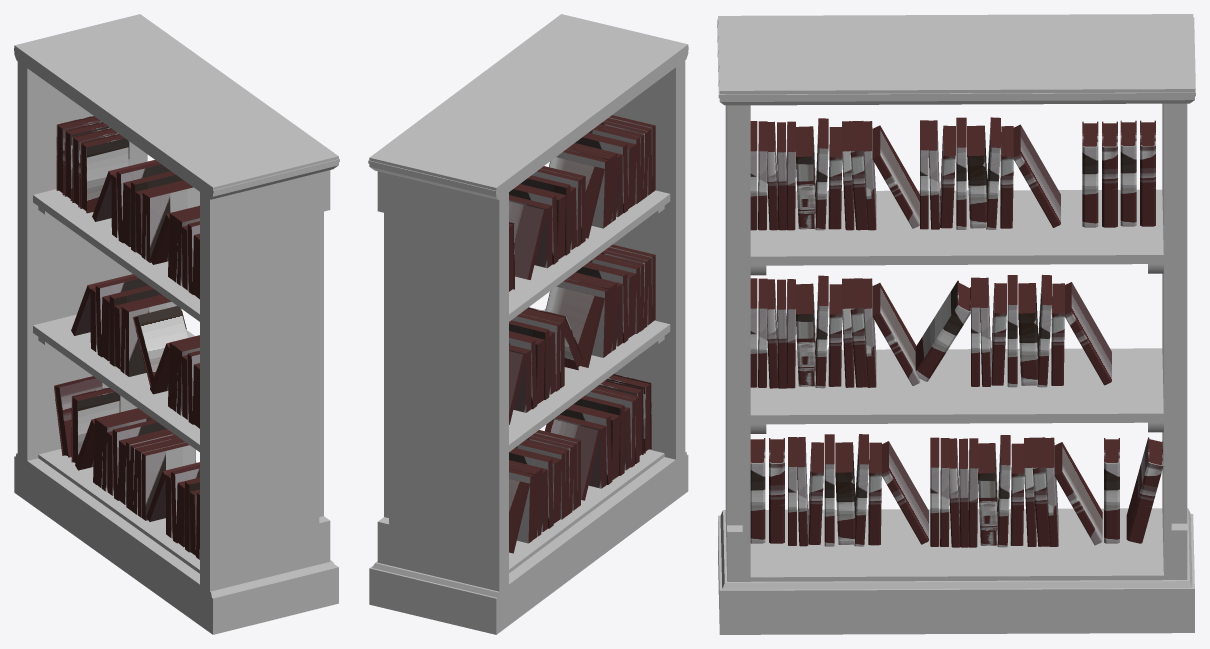
The model's file is Small Bookshelf.fbx.
3 renders of one model, left to right at view 1: azimuth 30°, elevation 25°; view 2: azimuth 150°, elevation 25°; view 3: azimuth 270°, elevation 25°, orthographic. The views are drawn at different scales.
Visible parts, largest first — view 1: Small Bookshelf, Stack Book-4.006, Stack Book-3.007, Stack Book-3.006, Stack Book-3.005, Stack Book-4.007, Stack Book-4.008, Stack Book-1.009, Stack Book-1.007, Stack Book-1.006, Stack Book-2.006, Stack Book-1.008 (+2 smaller); view 2: Small Bookshelf, Stack Book-4.007, Stack Book-4.008, Stack Book-4.006, Stack Book-3.007, Stack Book-3.005, Stack Book-3.006, Stack Book-1.005, Stack Book-1.007, Stack Book-2.005; view 3: Small Bookshelf, Stack Book-4.006, Stack Book-4.008, Stack Book-4.007, Stack Book-3.007, Stack Book-3.005, Stack Book-3.006, Stack Book-1.007, Stack Book-2.006, Stack Book-1.008, Stack Book-1.009, Stack Book-2.007 (+4 smaller).
Boxes of the visible parts, x1,y1,x2,y2 form: Small Bookshelf: (14,14,339,634); Stack Book-4.006: (75,408,195,520); Stack Book-3.007: (92,160,199,262); Stack Book-3.006: (71,274,176,376); Stack Book-3.005: (146,462,199,559); Stack Book-4.007: (150,335,199,428); Stack Book-4.008: (150,205,199,299); Stack Book-1.009: (80,133,129,213); Stack Book-1.007: (132,306,188,386); Stack Book-1.006: (71,387,120,462); Stack Book-2.006: (54,376,103,457); Stack Book-1.008: (64,121,109,200); Small Bookshelf: (368,14,688,634); Stack Book-4.007: (545,244,655,367); Stack Book-4.008: (549,115,655,238); Stack Book-4.006: (509,430,580,553); Stack Book-3.007: (509,166,585,279); Stack Book-3.005: (545,386,639,500); Stack Book-3.006: (509,311,564,424); Stack Book-1.005: (606,374,651,453); Stack Book-1.007: (524,307,583,370); Stack Book-2.005: (598,379,643,455); Small Bookshelf: (717,14,1195,634); Stack Book-4.006: (930,435,1102,547); Stack Book-4.008: (750,118,919,230); Stack Book-4.007: (750,275,920,388); Stack Book-3.007: (920,117,1060,229); Stack Book-3.005: (788,434,928,546); Stack Book-3.006: (971,274,1111,387); Stack Book-1.007: (915,280,970,381); Stack Book-2.006: (1126,437,1163,543); Stack Book-1.008: (1120,120,1136,226); Stack Book-1.009: (1082,121,1098,227); Stack Book-2.007: (1140,120,1155,226).
Bounding box in the file's own units: 0.2815 × 0.736 × 0.9225.
